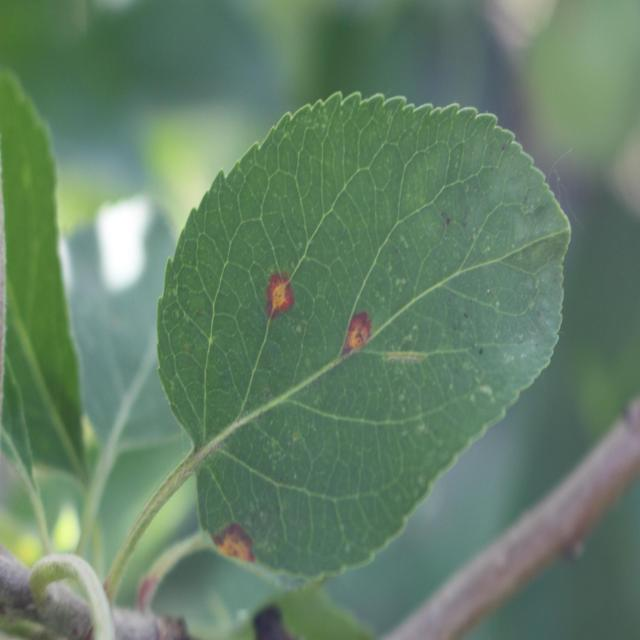Rust: (210, 514, 258, 588), (338, 290, 376, 382), (265, 241, 301, 324)
